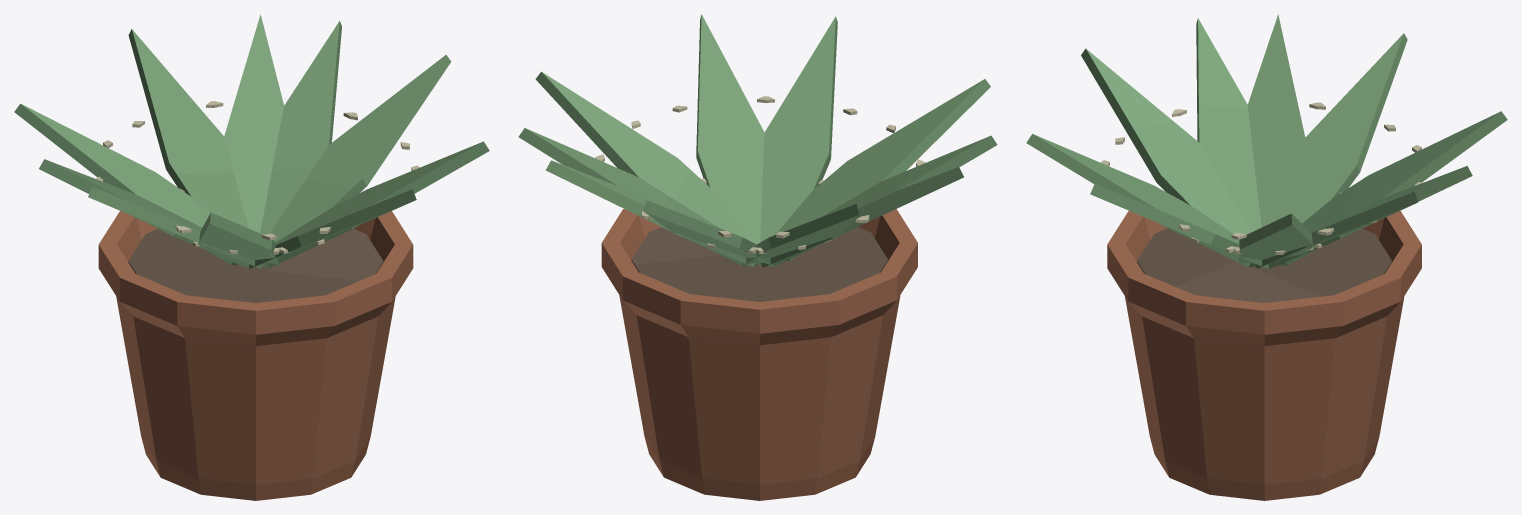
Rendered from aloe.glb.
3 renders of one model, left to right at view 1: azimuth 30°, elevation 25°; view 2: azimuth 150°, elevation 25°; view 3: azimuth 270°, elevation 25°, orthographic.
Visible parts, largest first — view 1: aloe/review-terra-vessel, aloe/review-rooted-soil, aloe/leaf-016, aloe/leaf-026, aloe/leaf-001, aloe/leaf-041, aloe/leaf-031, aloe/leaf-011, aloe/leaf-021, aloe/leaf-006, aloe/leaf-036, aloe/leaf-046; view 2: aloe/review-terra-vessel, aloe/review-rooted-soil, aloe/leaf-011, aloe/leaf-036, aloe/leaf-026, aloe/leaf-021, aloe/leaf-001, aloe/leaf-046, aloe/leaf-031, aloe/leaf-016, aloe/leaf-041, aloe/leaf-006; view 3: aloe/review-terra-vessel, aloe/review-rooted-soil, aloe/leaf-031, aloe/leaf-021, aloe/leaf-046, aloe/leaf-006, aloe/leaf-016, aloe/leaf-036, aloe/leaf-026, aloe/leaf-011, aloe/leaf-001, aloe/leaf-041.
Boxes of the visible parts, left/top/right/bottom form: aloe/review-terra-vessel: left=98, top=211, right=413, bottom=500; aloe/review-rooted-soil: left=128, top=228, right=383, bottom=303; aloe/leaf-016: left=128, top=29, right=248, bottom=228; aloe/leaf-026: left=270, top=54, right=451, bottom=242; aloe/leaf-001: left=260, top=21, right=341, bottom=234; aloe/leaf-041: left=224, top=14, right=284, bottom=233; aloe/leaf-031: left=14, top=103, right=238, bottom=264; aloe/leaf-011: left=263, top=141, right=489, bottom=267; aloe/leaf-021: left=198, top=212, right=279, bottom=265; aloe/leaf-006: left=39, top=159, right=249, bottom=268; aloe/leaf-036: left=249, top=189, right=416, bottom=268; aloe/leaf-046: left=88, top=186, right=262, bottom=268; aloe/review-terra-vessel: left=601, top=209, right=917, bottom=500; aloe/review-rooted-soil: left=631, top=227, right=887, bottom=301; aloe/leaf-011: left=696, top=14, right=764, bottom=244; aloe/leaf-036: left=760, top=16, right=837, bottom=242; aloe/leaf-026: left=535, top=71, right=750, bottom=259; aloe/leaf-021: left=775, top=79, right=990, bottom=260; aloe/leaf-001: left=518, top=128, right=742, bottom=265; aloe/leaf-046: left=774, top=135, right=997, bottom=266; aloe/leaf-031: left=742, top=204, right=858, bottom=265; aloe/leaf-016: left=643, top=200, right=774, bottom=266; aloe/leaf-041: left=545, top=160, right=756, bottom=267; aloe/leaf-006: left=761, top=167, right=963, bottom=267; aloe/review-terra-vessel: left=1107, top=211, right=1421, bottom=500; aloe/review-rooted-soil: left=1137, top=228, right=1391, bottom=302; aloe/leaf-031: left=1277, top=33, right=1407, bottom=223; aloe/leaf-021: left=1081, top=48, right=1251, bottom=234; aloe/leaf-046: left=1196, top=18, right=1261, bottom=231; aloe/leaf-006: left=1247, top=14, right=1305, bottom=227; aloe/leaf-016: left=1278, top=111, right=1507, bottom=265; aloe/leaf-036: left=1026, top=134, right=1255, bottom=267; aloe/leaf-026: left=1239, top=213, right=1314, bottom=264; aloe/leaf-011: left=1090, top=184, right=1268, bottom=268; aloe/leaf-001: left=1255, top=191, right=1418, bottom=268; aloe/leaf-041: left=1268, top=166, right=1472, bottom=268.
Size of the model in its own units: 0.2926 by 0.2269 by 0.2909.
Materials: 4 (4 with a texture image).
